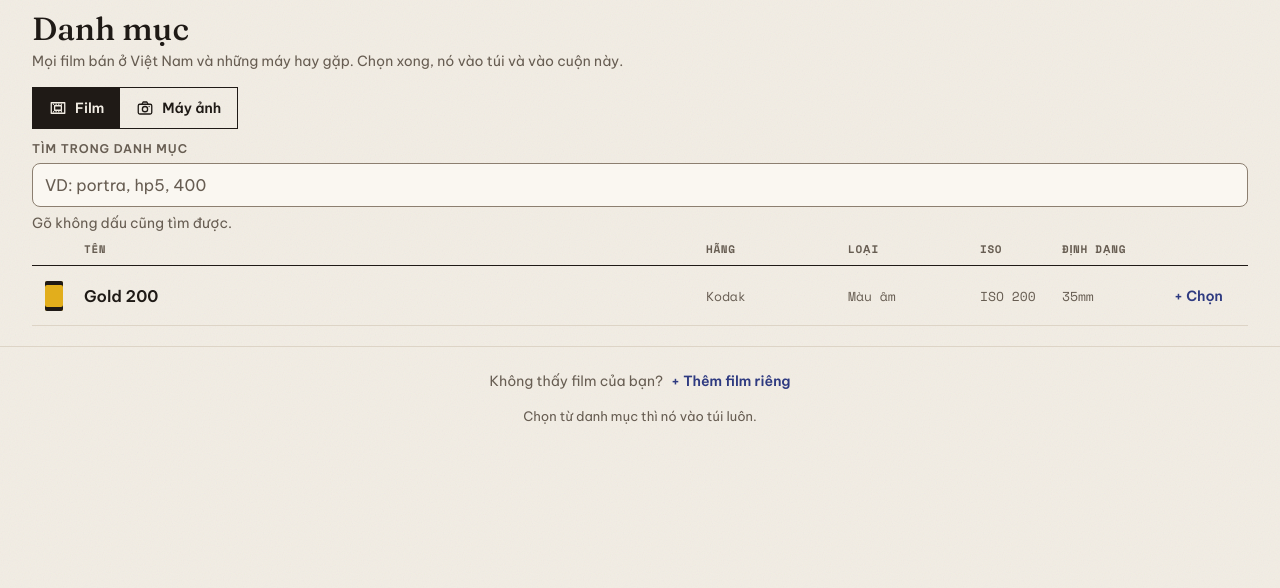
Scenario: CataloguePicker › clears the search from the no-match state, back to the list
Type "aerocolor" into the search field labelled "Tìm trong danh mục" at x=640, y=185, box [32,163,1248,207]
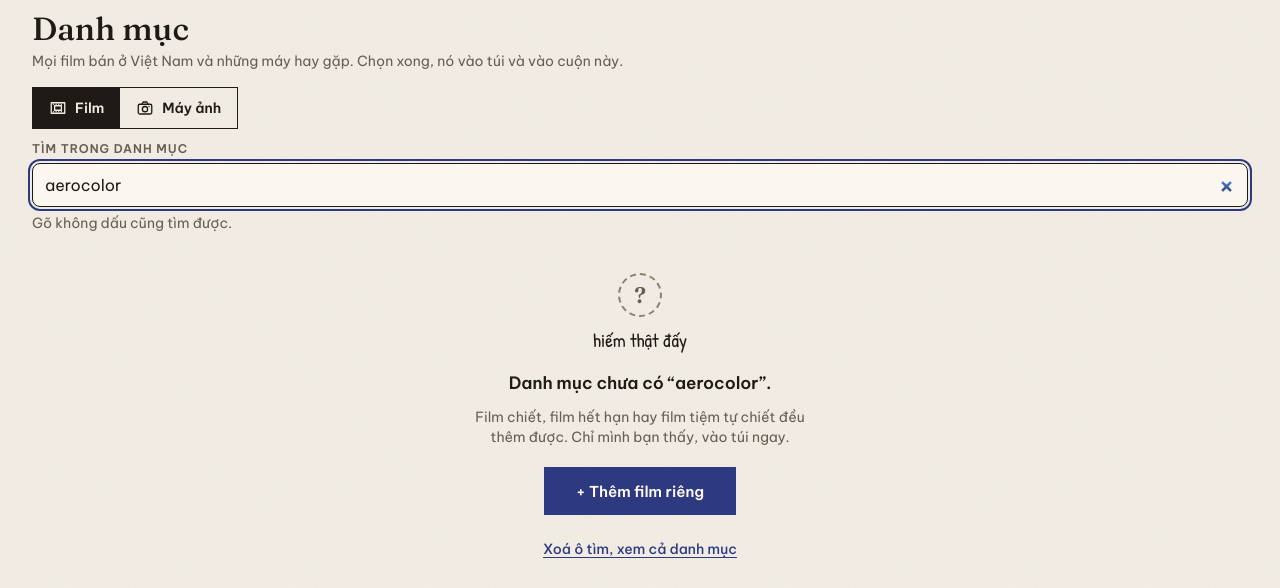
Check: the text "Danh mục chưa có “aerocolor”." is shown, box [509,371,771,395]
Click the button "Xoá ô tìm, xem cả danh mục" at x=640, y=549, box [543,527,737,571]
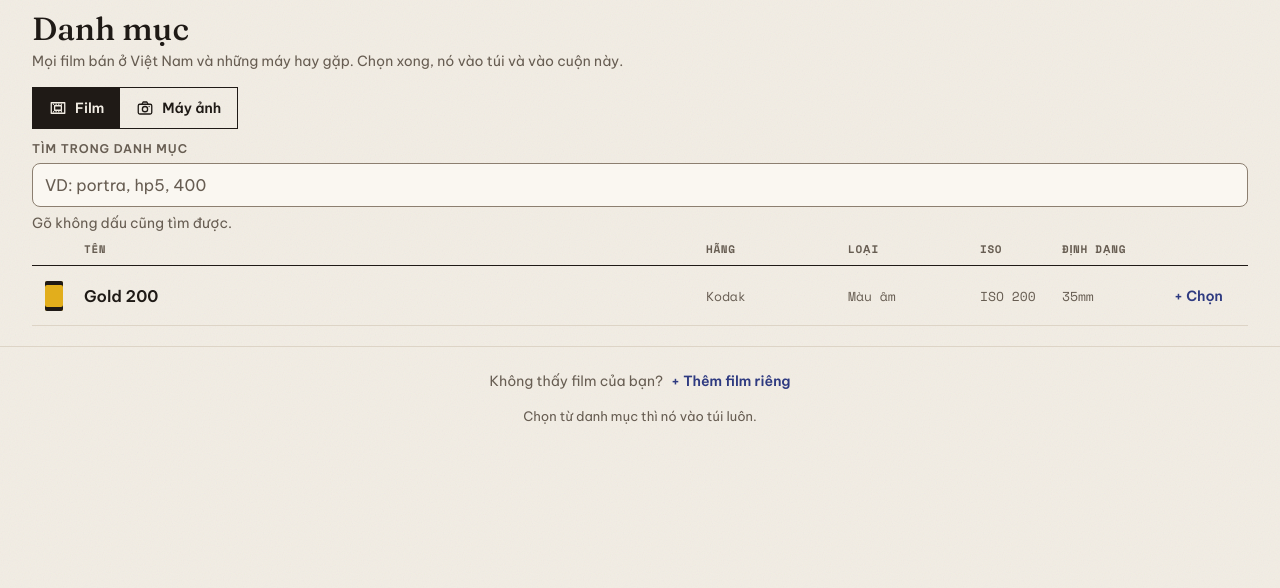
Check: the search field labelled "Tìm trong danh mục" is empty, box [32,163,1248,207]
Check: the button "Gold 200" is shown, box [32,266,1248,326]
